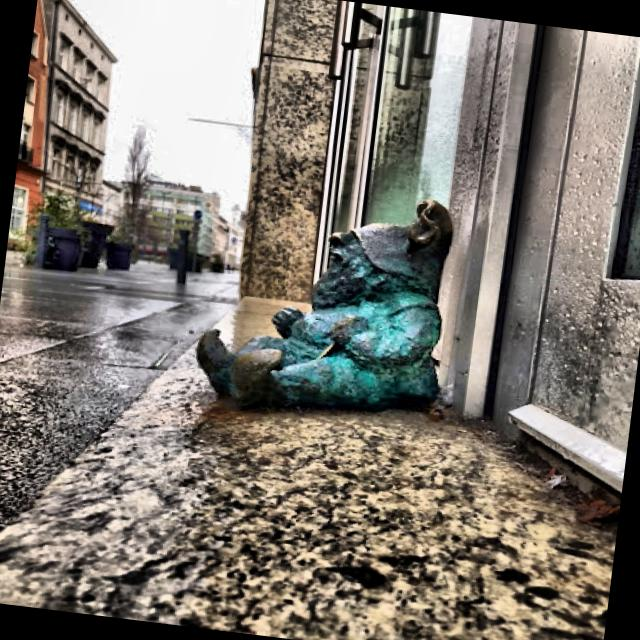Pieroznik: (195, 200, 453, 415)
